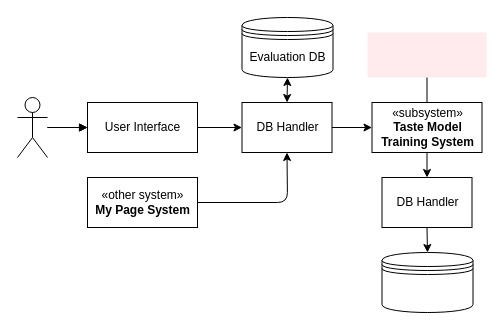
Some shapes in this 504 by 330 pixel diagram are drawn without their labels. Each missing label, with the centre of its shape:
"External Framework Tensorflow" belongs at (x=426, y=54).
"Taste Model DB" belongs at (x=427, y=282).
"User" belongs at (x=32, y=127).
